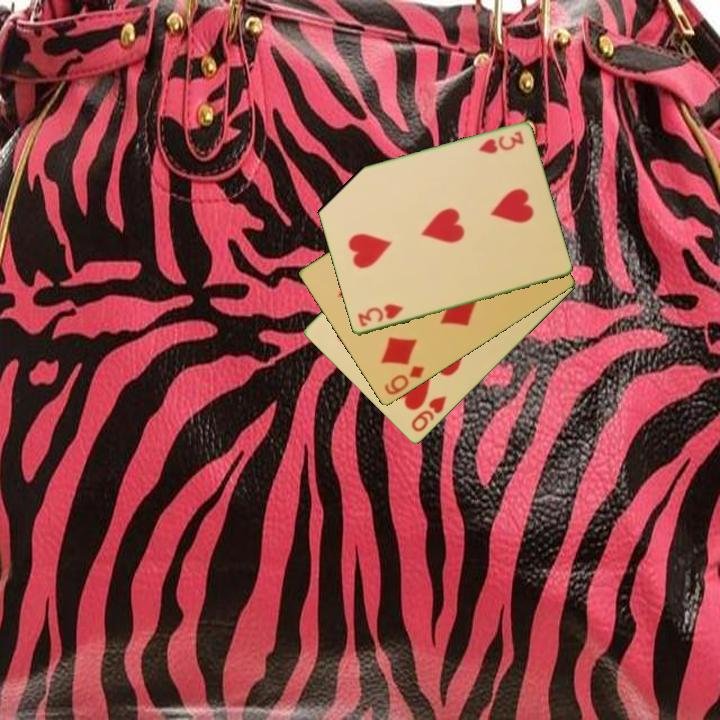3h: (354, 300, 406, 330), (475, 128, 527, 157)
6d: (381, 362, 428, 398)
9h: (408, 392, 449, 435)
